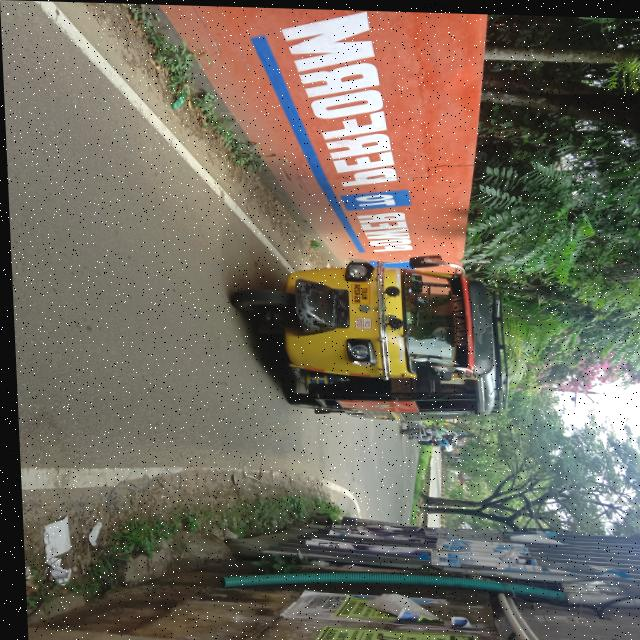plate: (346, 280, 370, 304)
